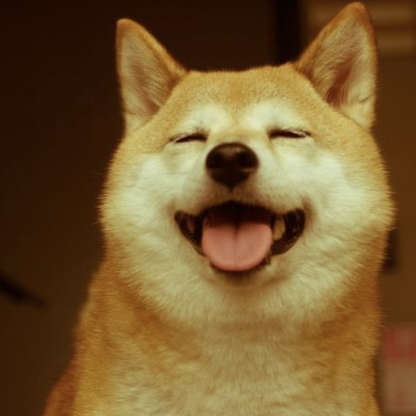shiba: (32, 1, 397, 416)
